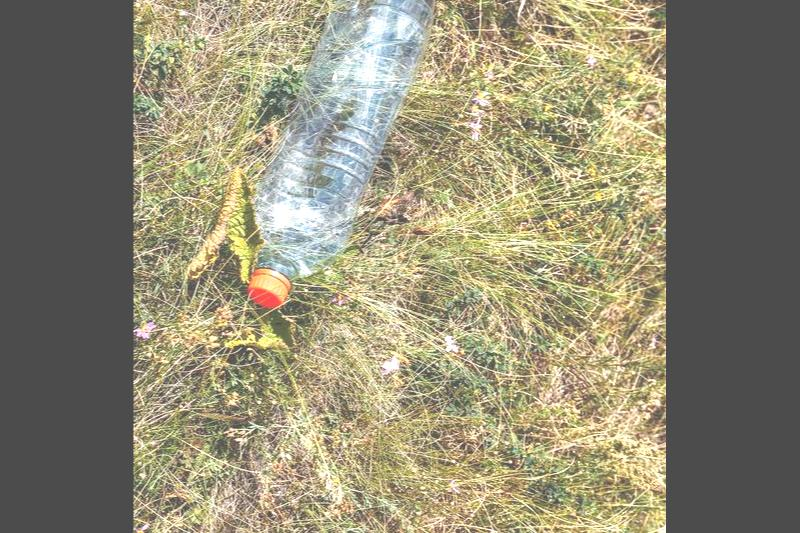bottle: (231, 0, 461, 319)
